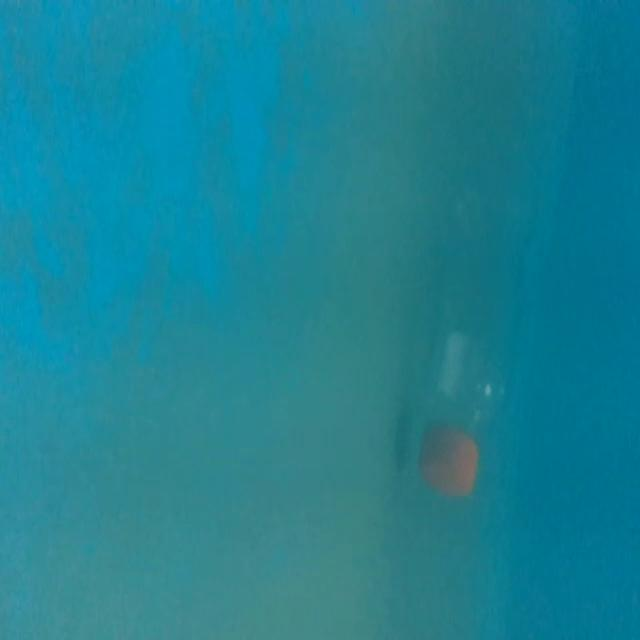plastic bottle: (406, 204, 524, 506)
